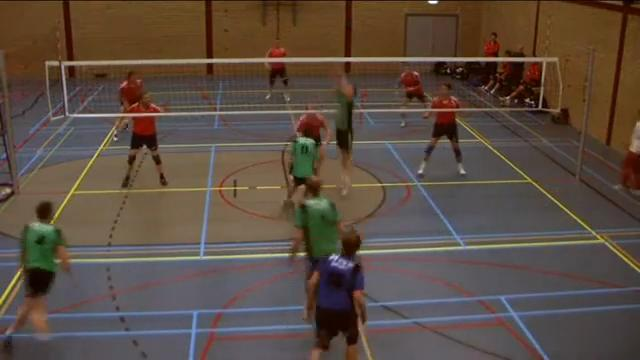alzata: (326, 59, 362, 195)
